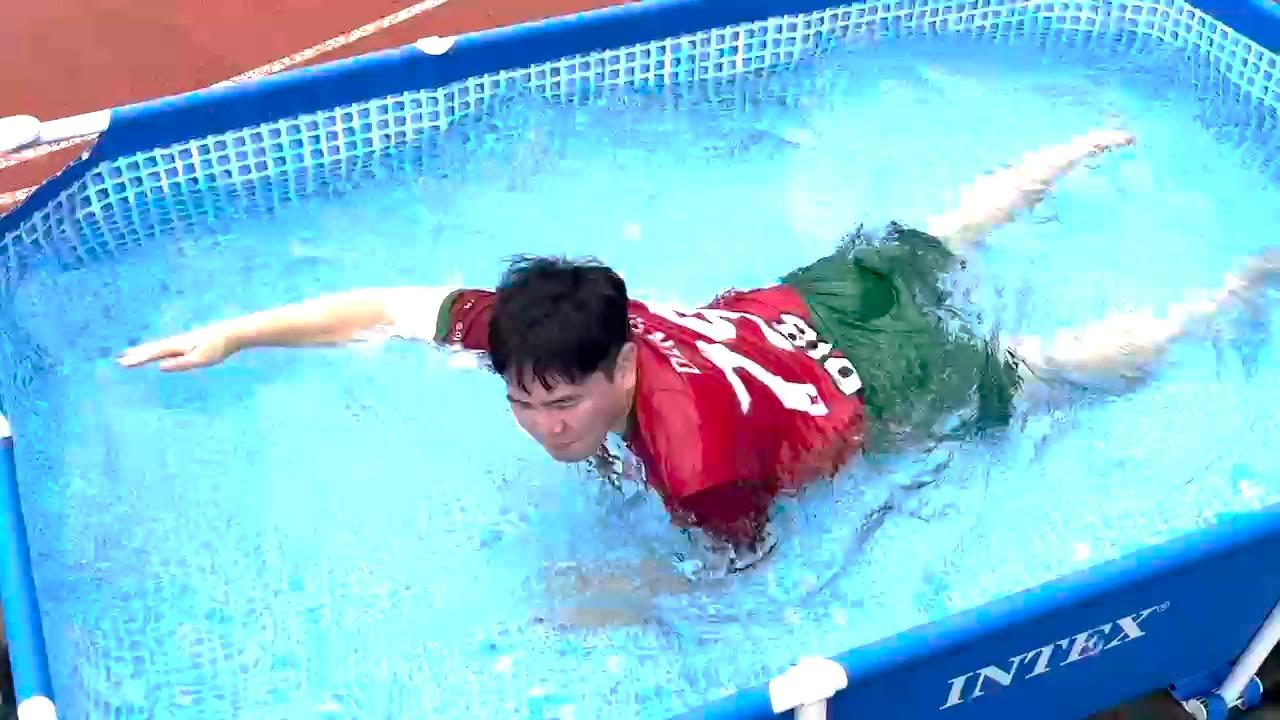Swimming: (72, 95, 1260, 620)
